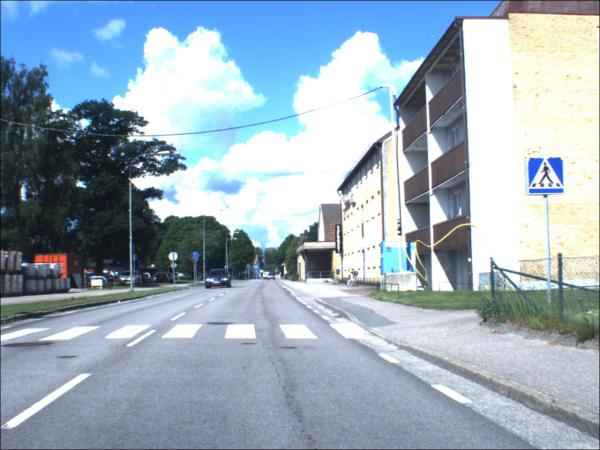PASS_RIGHT_SIDE: (256, 270, 261, 275)
PEDESTRIAN_CROSSING: (528, 159, 565, 196), (256, 266, 261, 270)
